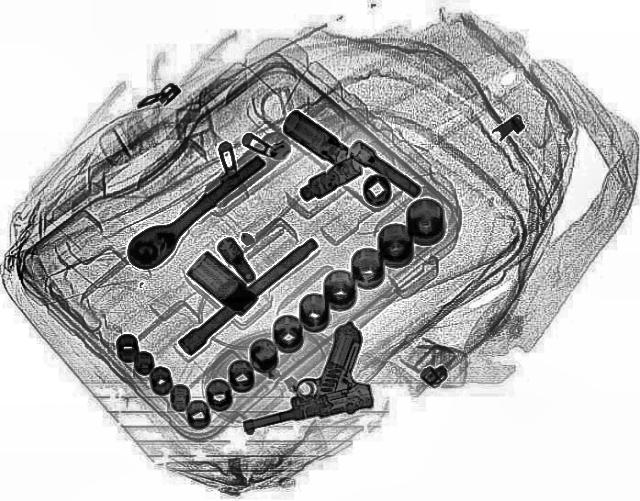Gun: (210, 320, 388, 432)
